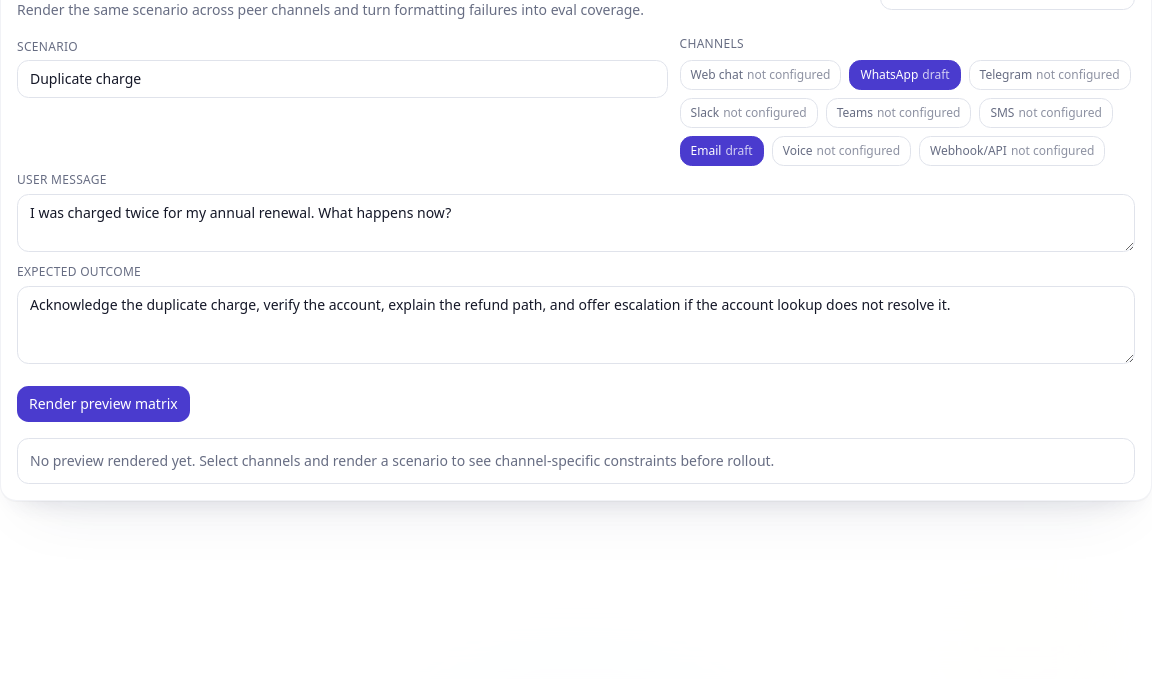
Scenario: ChannelPreviewMatrix › renders the same scenario across selected peer channels
The width and height of the screenshot is (1152, 679).
Click the button "Render preview matrix" at (103, 404), box [17,386,190,422]
(page scrolled)
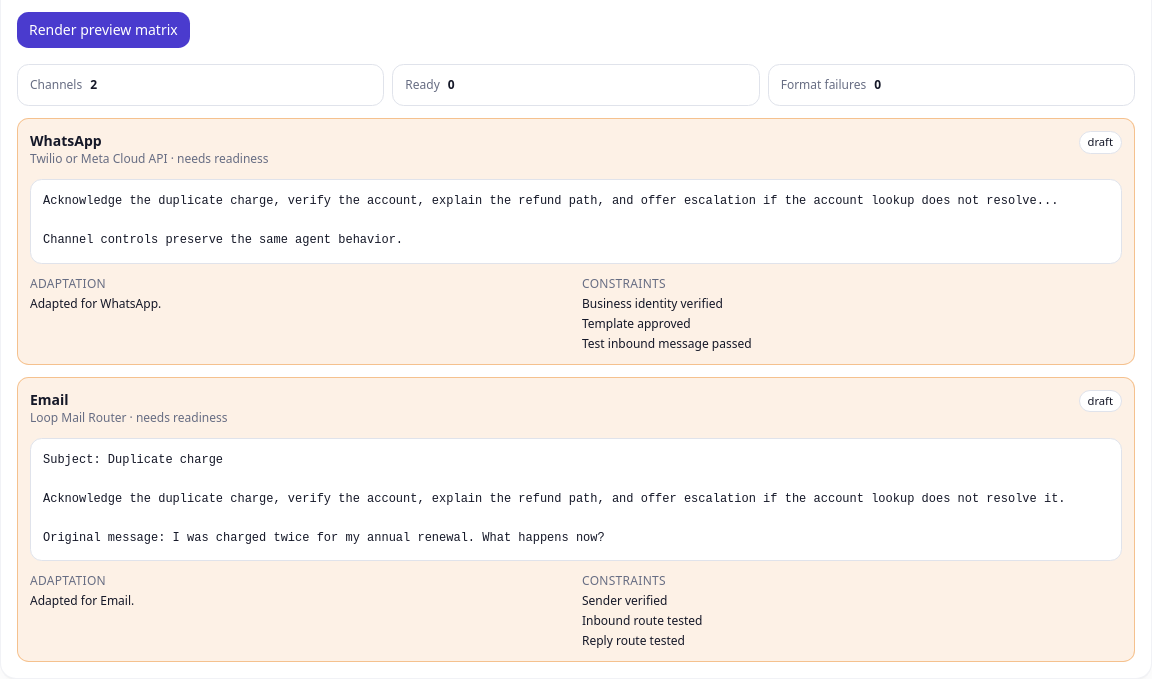
Now the element with test id "channel-preview-row-whatsapp" is shown, box [17,118,1135,364]
Now the element with test id "channel-preview-row-email" is shown, box [17,376,1135,662]
